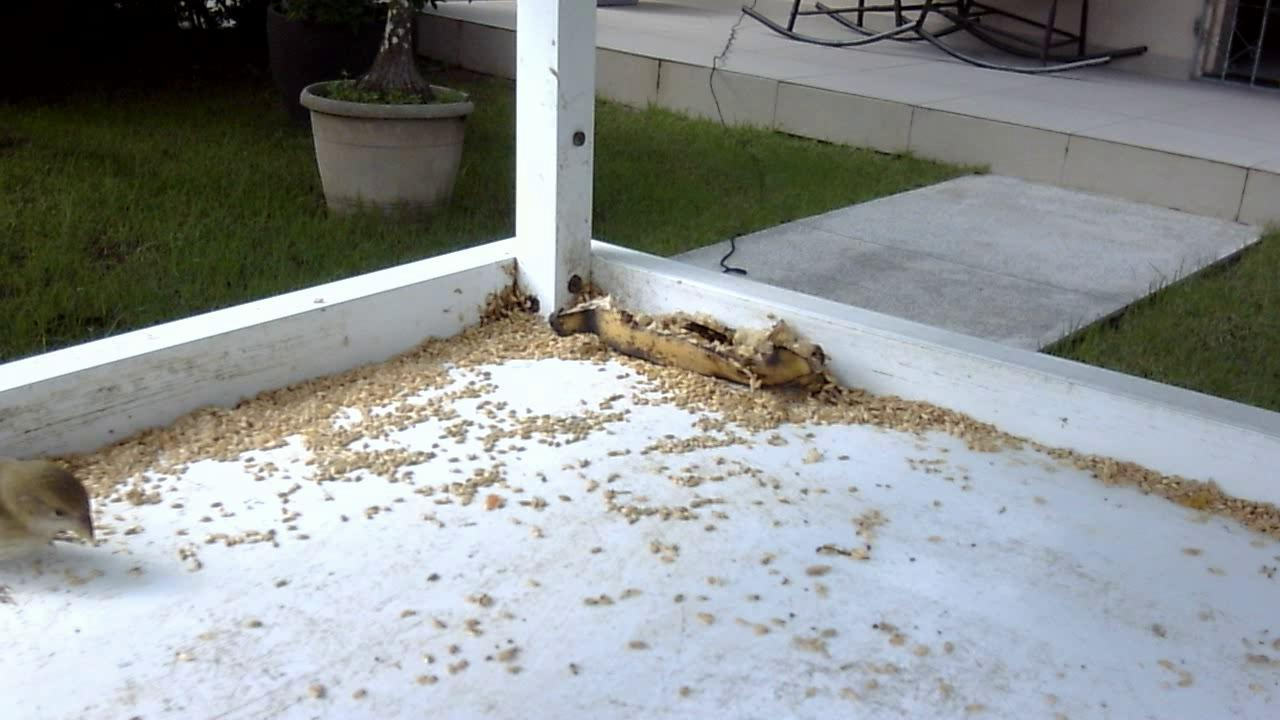canario_do_amazonas: (1, 450, 105, 616)
